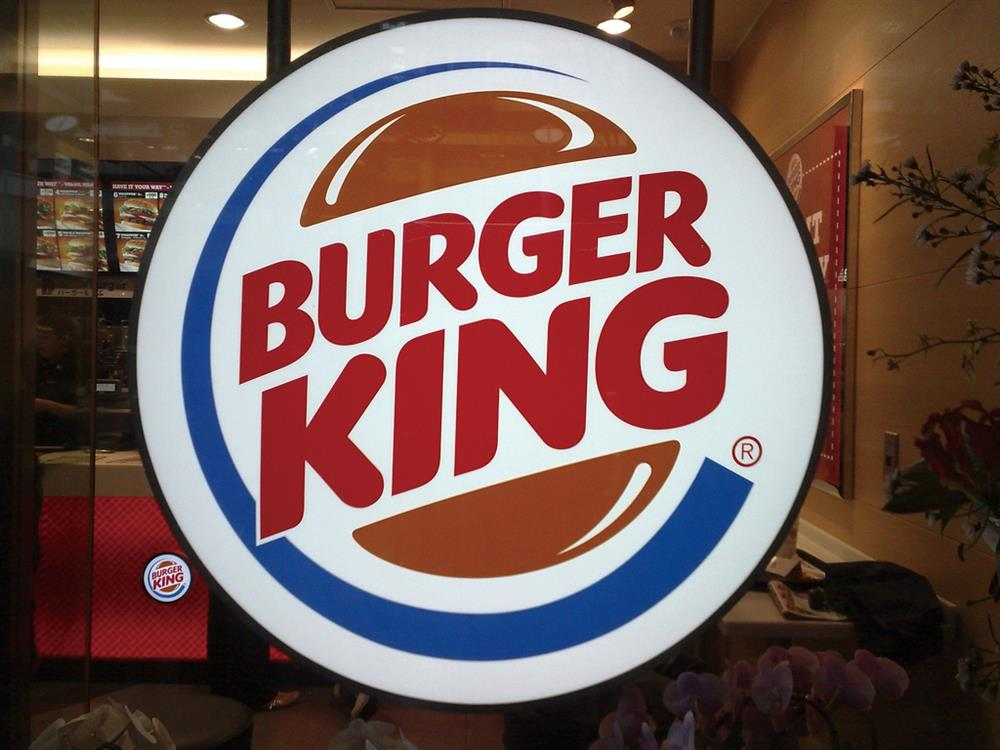Burger_King: (206, 78, 738, 604)
